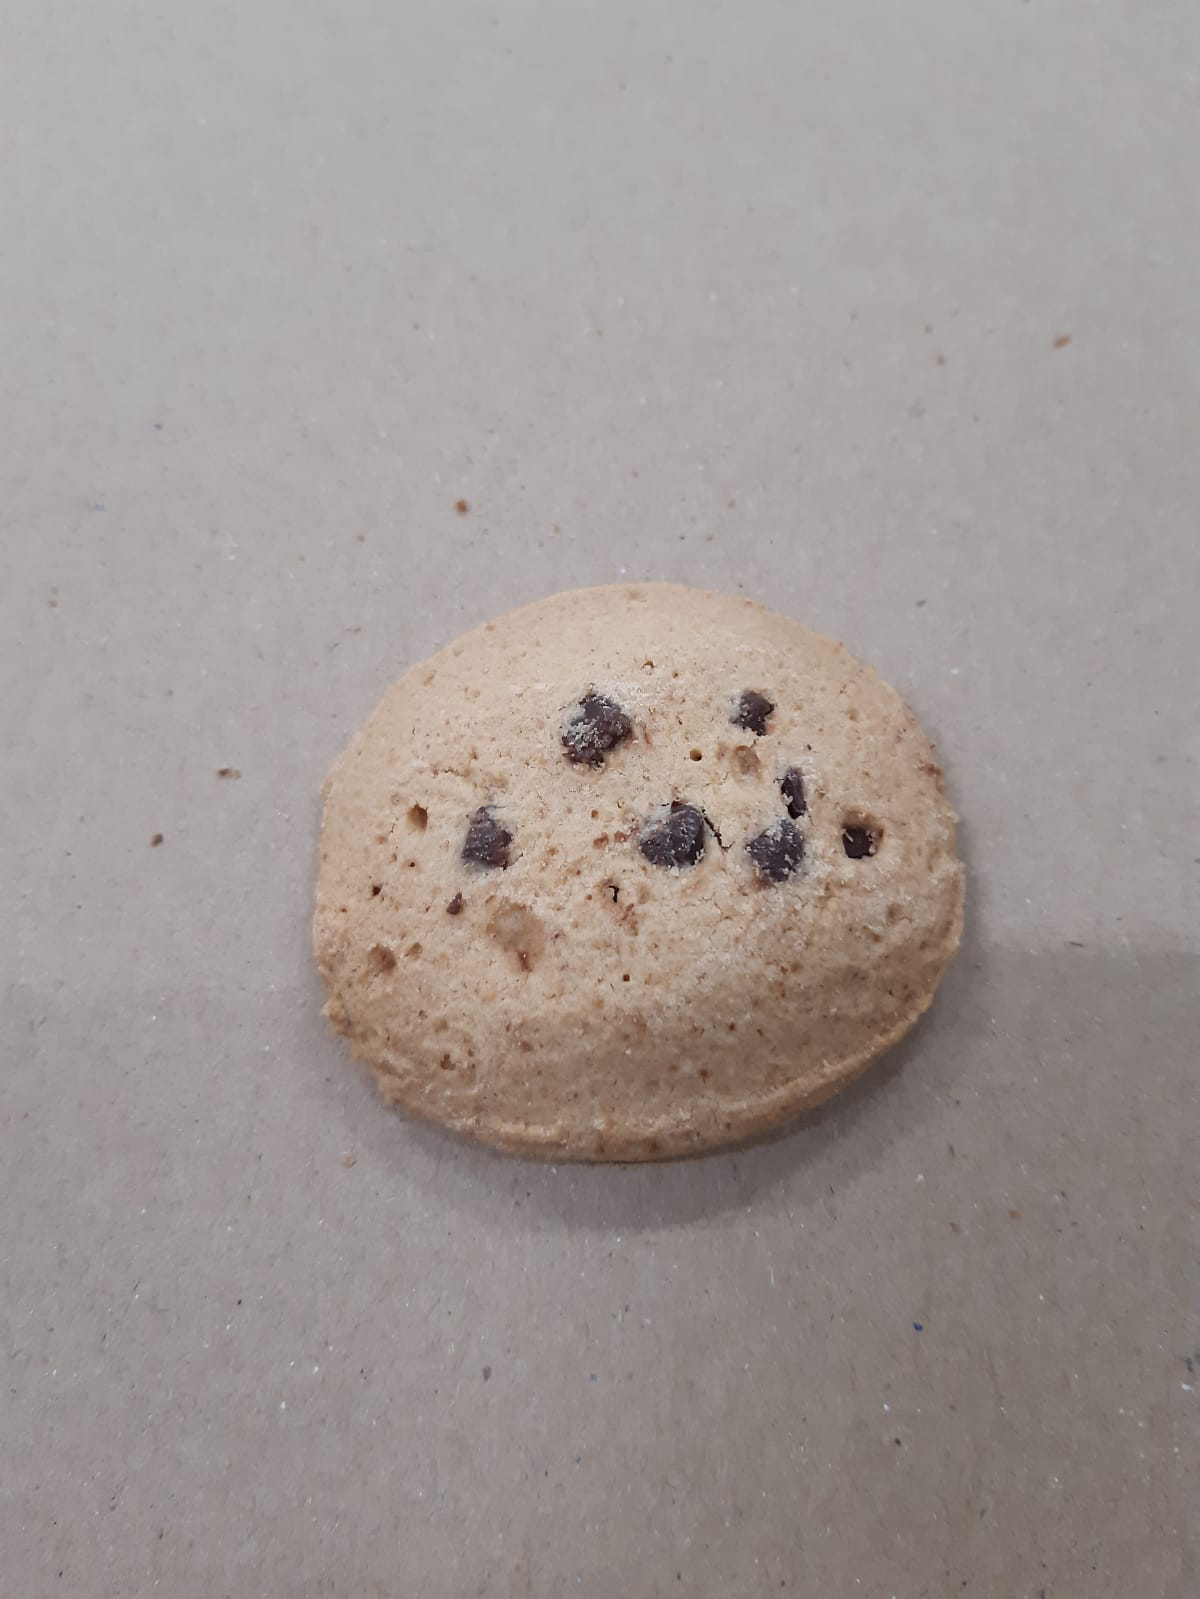Cookie1: (309, 577, 972, 1167)
